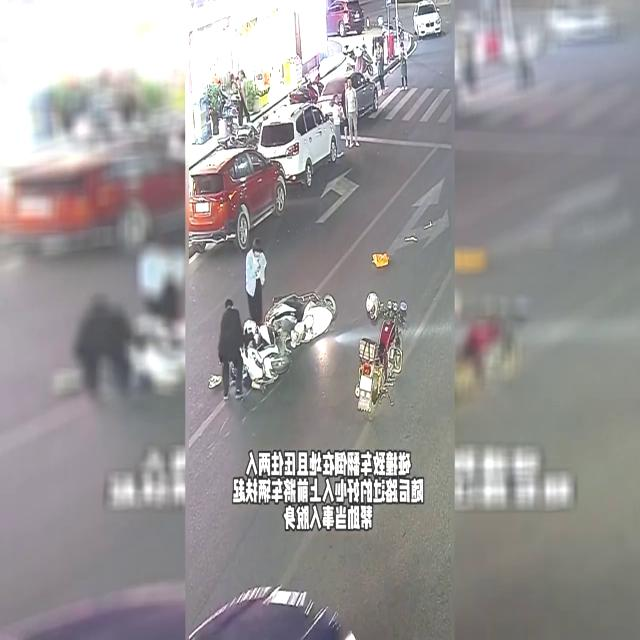accident: (209, 290, 339, 408)
non-accident: (184, 104, 340, 254), (258, 71, 378, 189)
